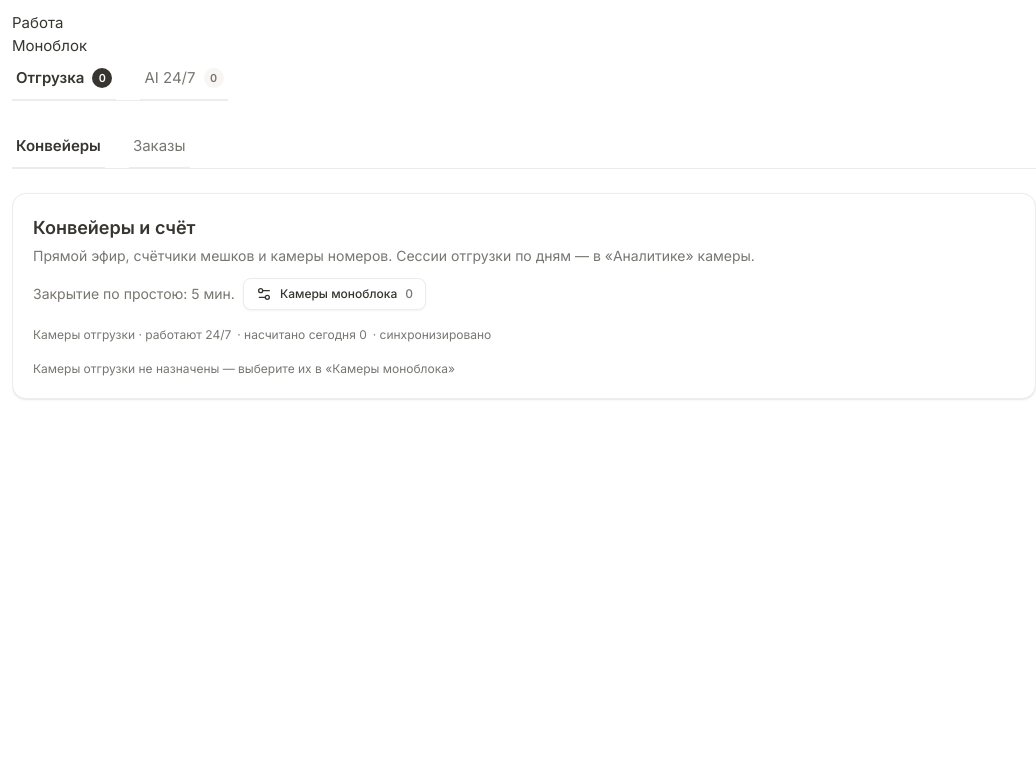
Test case: гейтинг данных вкладки «Отгрузка» › настройка «Отгруженные» видна только с правом управления системой
Expected: the button "Отгруженные:" is not shown
Click the tab "Заказы": [159, 147] box [129,125,190,169]
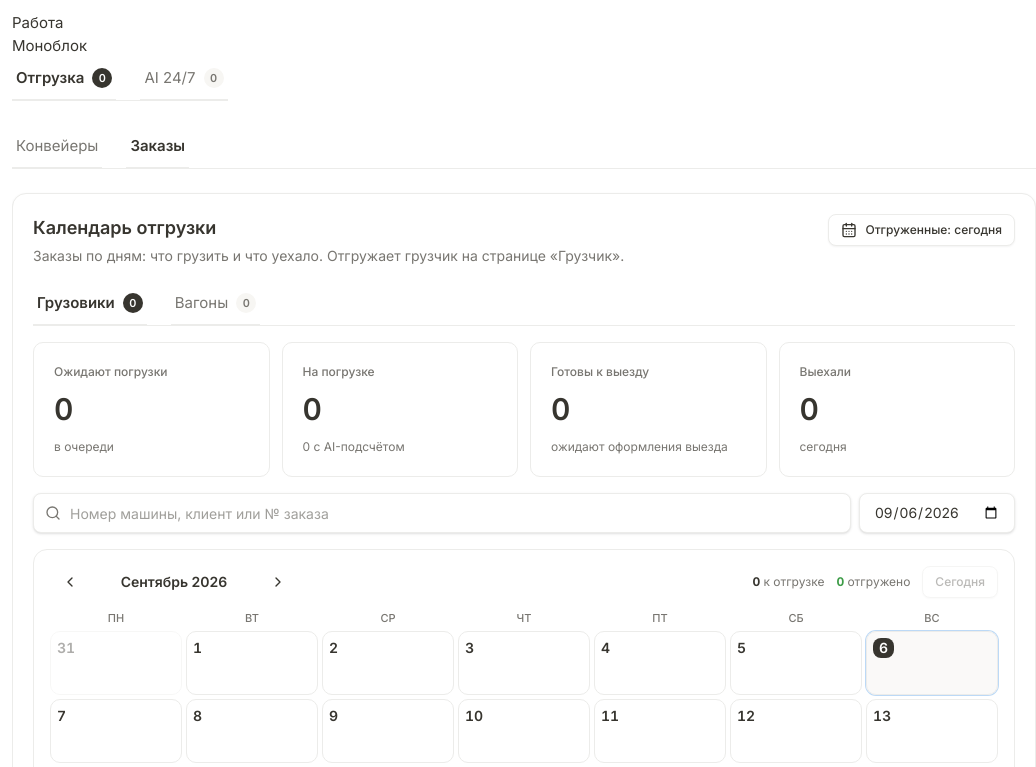
Expected: the button "Отгруженные: сегодня" is shown, [828,214,1015,246]
Click the tab "Конвейеры": [57, 147] box [12,125,102,169]
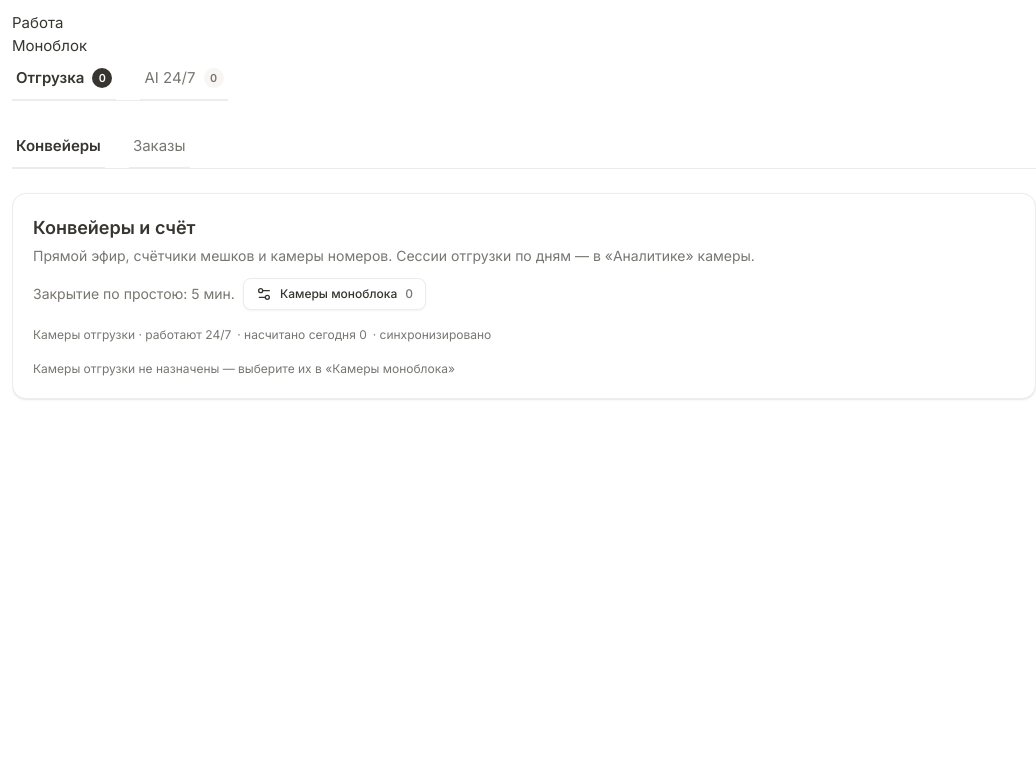
Expected: the button "Камеры моноблока 0" is shown, [243,278,426,310]
